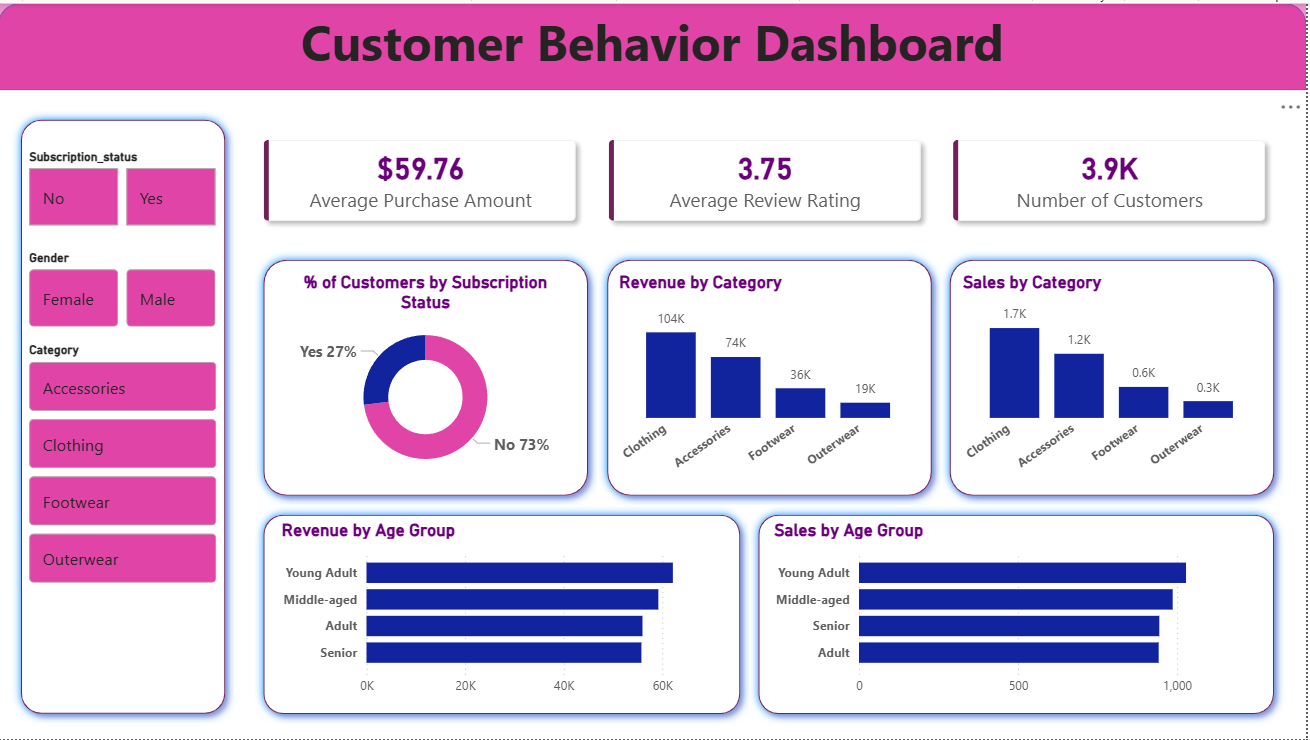

This screenshot's page, from the dashboard's own definition file:
{"tool":"powerbi","page":{"name":"Dashboard","canvas":[1280,720],"ordinal":0},"visuals":[{"type":"cardVisual","fields":{"Data":["Viz_ready_data.Average Purchase Amount","Viz_ready_data.Average Review Rating","Viz_ready_data.Number of Customers"]},"box":[231.5,105,1038.8,137.1],"z":0},{"type":"shape","box":[0,0,1280,85.6],"z":1000},{"type":"textbox","box":[0,0,1280.3,85.1],"z":2000},{"type":"shape","box":[250.9,242.2,335.6,249],"z":3000},{"type":"donutChart","title":"% of Customers by Subscription Status","fields":{"Category":["Viz_ready_data.subscription_status"],"Y":["CountNonNull(Viz_ready_data.customer_id)"]},"box":[269.4,262.6,298.6,207.2],"z":4000},{"type":"shape","box":[586.5,242.2,335.6,249],"z":5000},{"type":"shape","box":[922.1,242.2,335.6,249],"z":6000},{"type":"shape","box":[250.9,491.2,484.4,213],"z":7000},{"type":"shape","box":[735.3,491.2,522.3,213],"z":8000},{"type":"shape","box":[13.6,105,217.9,599.1],"z":9000},{"type":"clusteredColumnChart","title":"Revenue by Category","fields":{"Category":["Viz_ready_data.category"],"Y":["Sum(Viz_ready_data.purchase_amount)"]},"box":[603,262.6,302.5,207.2],"z":10000},{"type":"advancedSlicerVisual","fields":{"Values":["Viz_ready_data.subscription_status"]},"box":[25.3,143,193.6,79.8],"z":11000},{"type":"advancedSlicerVisual","title":"Gender","fields":{"Values":["Viz_ready_data.gender"]},"box":[25.3,242.2,193.6,79.8],"z":12000},{"type":"advancedSlicerVisual","title":"Category","fields":{"Values":["Viz_ready_data.category"]},"box":[25.3,332.6,193.6,243.2],"z":13000},{"type":"clusteredBarChart","title":"Revenue by Age Group","fields":{"Y":["Sum(Viz_ready_data.purchase_amount)"],"Category":["Viz_ready_data.age_group"]},"box":[272.3,504.8,440.6,180.9],"z":14000},{"type":"clusteredBarChart","title":"Sales by Age Group","fields":{"Category":["Viz_ready_data.age_group"],"Y":["CountNonNull(Viz_ready_data.customer_id)"]},"box":[754.8,504.8,481.5,180.9],"z":15000},{"type":"clusteredColumnChart","title":"Sales by Category","fields":{"Category":["Viz_ready_data.category"],"Y":["CountNonNull(Viz_ready_data.customer_id)"]},"box":[939.6,262.6,301.5,207.2],"z":16000}]}

Visuals, with their boxes in screenshot pixels (x1, y1, x2, y2), scaled from the page's 1280x720 canvas onto the 1310x740 screenshot:
cardVisual - Viz_ready_data.Average Purchase Amount x Viz_ready_data.Average Review Rating: pyautogui.locateOnScreen(237, 108, 1300, 249)
shape: pyautogui.locateOnScreen(0, 0, 1309, 88)
textbox: pyautogui.locateOnScreen(0, 0, 1309, 87)
shape: pyautogui.locateOnScreen(257, 249, 600, 505)
"% of Customers by Subscription Status" donutChart: pyautogui.locateOnScreen(276, 270, 581, 483)
shape: pyautogui.locateOnScreen(600, 249, 944, 505)
shape: pyautogui.locateOnScreen(944, 249, 1287, 505)
shape: pyautogui.locateOnScreen(257, 505, 753, 724)
shape: pyautogui.locateOnScreen(753, 505, 1287, 724)
shape: pyautogui.locateOnScreen(14, 108, 237, 724)
"Revenue by Category" clusteredColumnChart: pyautogui.locateOnScreen(617, 270, 927, 483)
advancedSlicerVisual - Viz_ready_data.subscription_status: pyautogui.locateOnScreen(26, 147, 224, 229)
"Gender" advancedSlicerVisual: pyautogui.locateOnScreen(26, 249, 224, 331)
"Category" advancedSlicerVisual: pyautogui.locateOnScreen(26, 342, 224, 592)
"Revenue by Age Group" clusteredBarChart: pyautogui.locateOnScreen(279, 519, 730, 705)
"Sales by Age Group" clusteredBarChart: pyautogui.locateOnScreen(772, 519, 1265, 705)
"Sales by Category" clusteredColumnChart: pyautogui.locateOnScreen(962, 270, 1270, 483)
